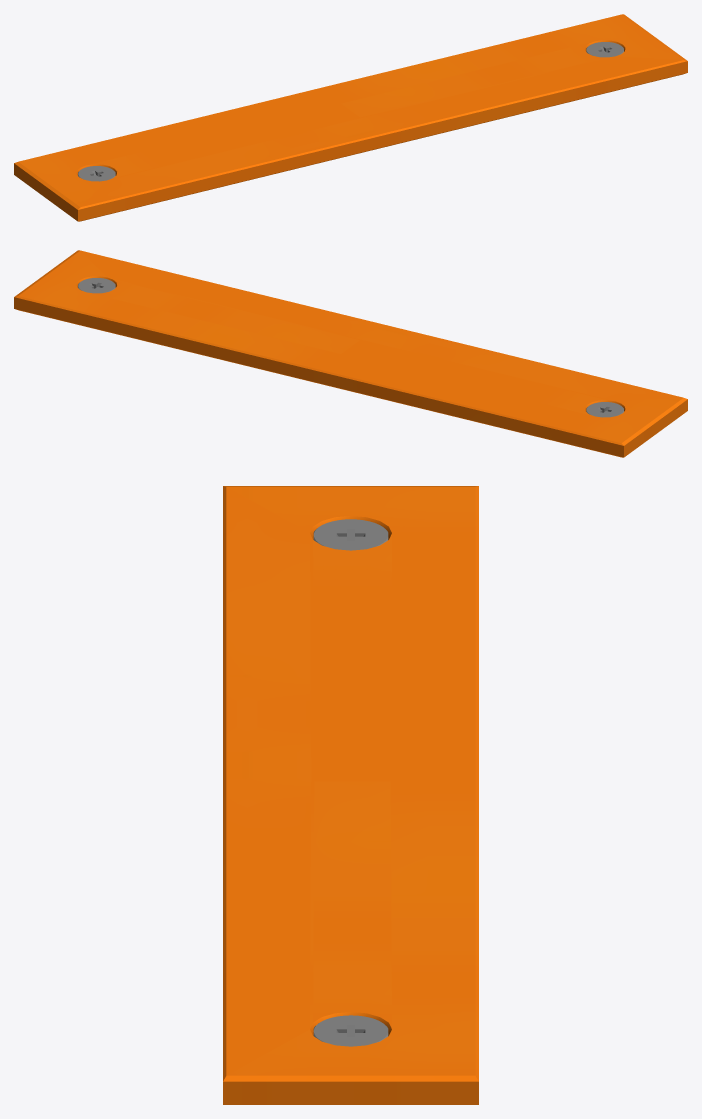
The model's file is BoltedPlankYellow.fbx.
3 renders of one model, top to bottom at view 1: azimuth 30°, elevation 25°; view 2: azimuth 150°, elevation 25°; view 3: azimuth 270°, elevation 25°, orthographic. The views are drawn at different scales.
Parts seen in each view (by area): view 1: Cube, Cube.001; view 2: Cube, Cube.001; view 3: Cube, Cube.001.
Part boxes in pixels (box(x1,y1,x2,y2)): Cube: box(14, 14, 687, 221); Cube.001: box(78, 42, 623, 181); Cube: box(14, 250, 687, 457); Cube.001: box(78, 278, 623, 417); Cube: box(223, 486, 478, 1104); Cube.001: box(313, 519, 388, 1046).
Bounding box in the file's own units: 21.97 × 0.4885 × 3.99.
